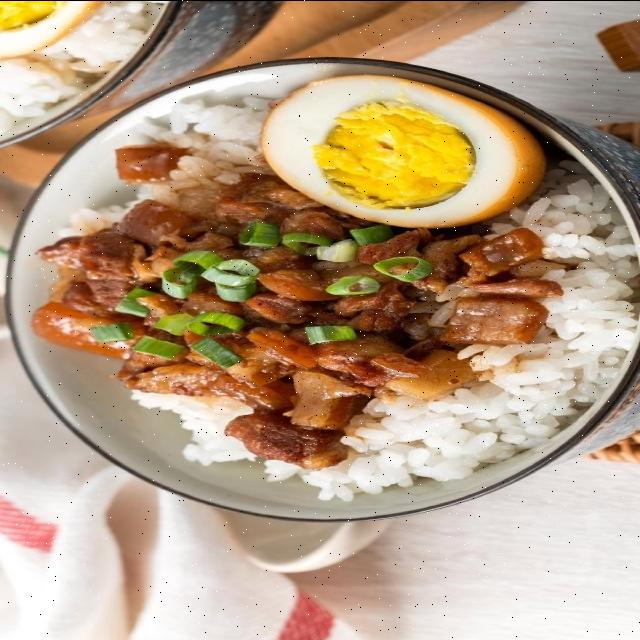Egg: (261, 74, 543, 227)
Pork: (32, 173, 561, 469), (118, 145, 185, 180)
Rice: (265, 181, 639, 501), (57, 97, 273, 237), (131, 391, 256, 465)
